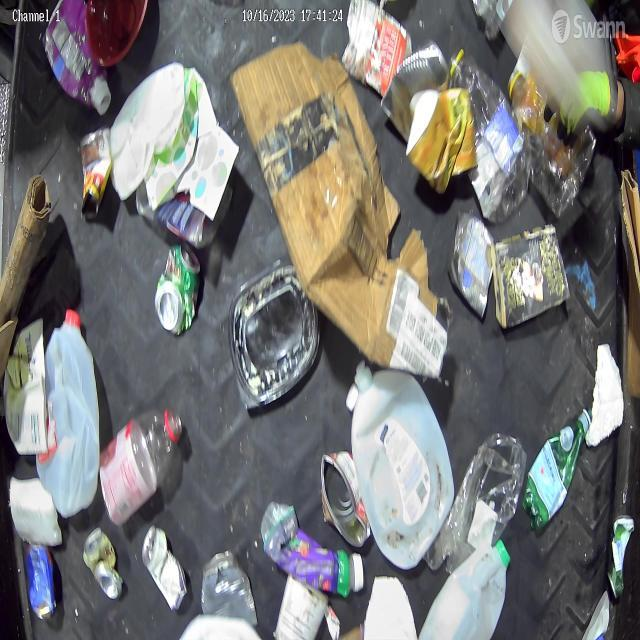can: (378, 43, 450, 143), (448, 209, 498, 320), (202, 548, 258, 632), (154, 239, 202, 333), (78, 524, 128, 610), (141, 524, 187, 612), (20, 530, 59, 626), (80, 128, 113, 216)
milk_jug: (348, 354, 458, 569), (37, 304, 100, 514), (420, 532, 513, 640)
non_white_jug: (42, 0, 114, 120)
plastic_bottle: (448, 45, 522, 219), (99, 403, 188, 521), (260, 498, 363, 598)
